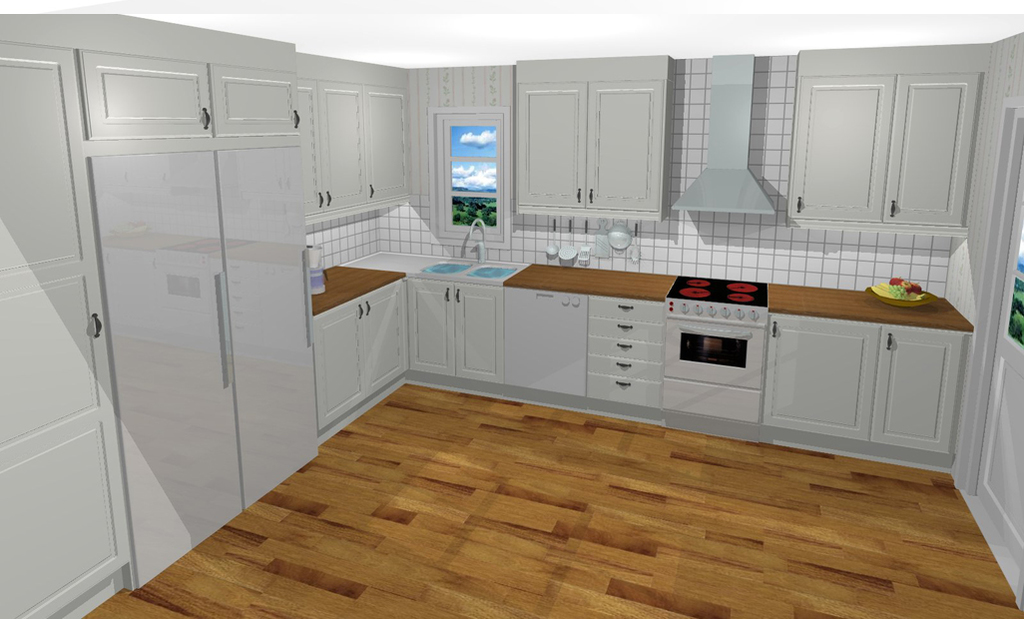cabinet door: (1, 55, 88, 259), (0, 287, 118, 405), (76, 52, 212, 135), (766, 319, 868, 428), (806, 79, 876, 222), (588, 83, 660, 208), (897, 82, 956, 221), (882, 328, 951, 442), (522, 84, 583, 208), (210, 66, 299, 126), (322, 90, 364, 201), (361, 96, 406, 197), (364, 294, 414, 381), (322, 304, 363, 401), (457, 285, 498, 376), (420, 287, 457, 368), (595, 296, 658, 323), (294, 88, 319, 152), (599, 337, 655, 363), (604, 379, 658, 403), (598, 319, 654, 342), (598, 359, 652, 377)
door: (1006, 198, 1024, 532)
handle: (201, 268, 238, 382), (296, 244, 316, 350), (84, 310, 107, 336), (196, 104, 214, 129), (614, 300, 638, 316), (440, 283, 454, 307), (614, 358, 635, 373), (614, 377, 635, 392), (791, 193, 806, 214), (358, 294, 372, 316), (287, 107, 301, 128), (887, 195, 899, 219), (452, 289, 466, 308), (616, 340, 637, 352), (311, 191, 324, 209), (615, 322, 634, 334), (364, 185, 377, 202), (322, 190, 334, 207), (886, 330, 894, 354), (354, 302, 365, 319), (574, 185, 583, 205), (586, 187, 596, 204), (770, 318, 777, 340)
refrigerator door: (98, 159, 226, 535), (214, 156, 318, 460)
